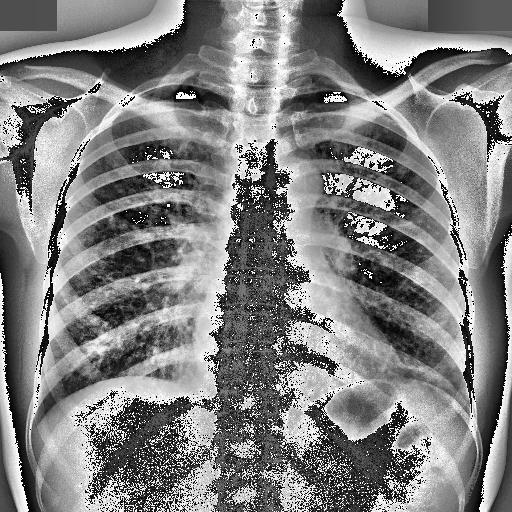11- Pleural thickening: (140, 84, 208, 96)
5- ILD: (42, 110, 218, 418), (295, 106, 468, 396), (54, 124, 232, 389), (318, 111, 468, 400)
